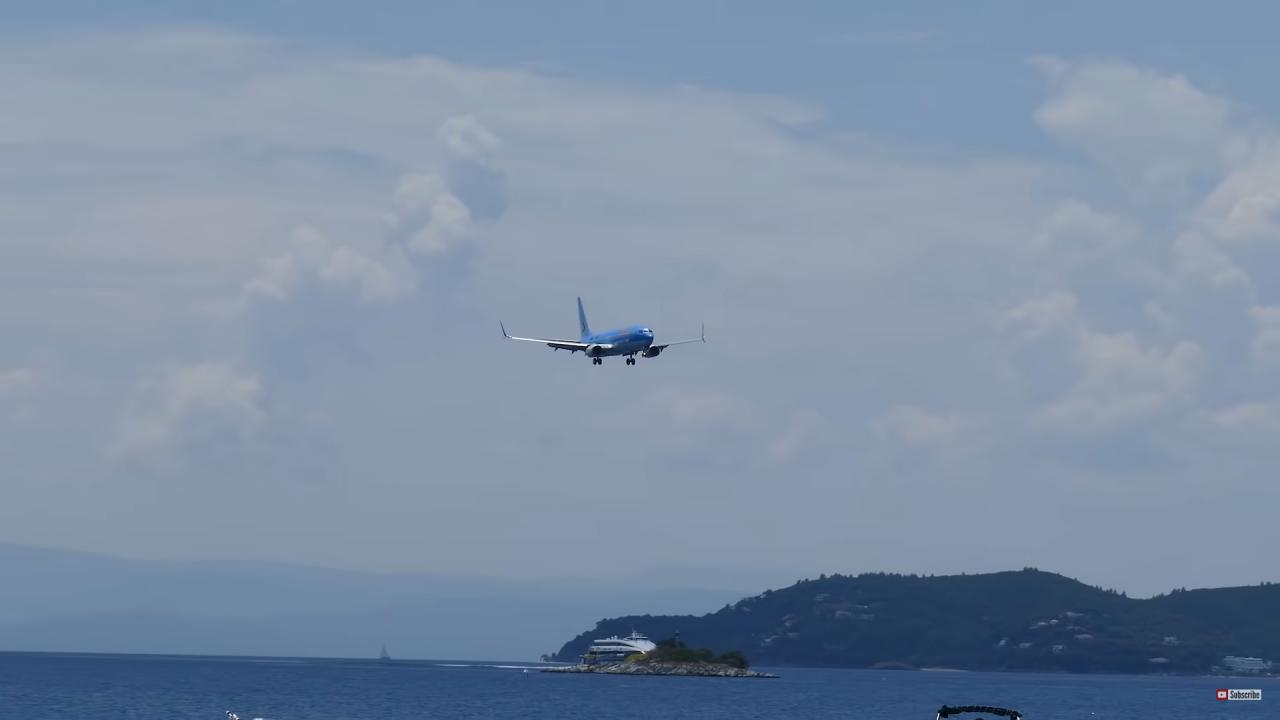Airplane: (487, 284, 718, 378)
